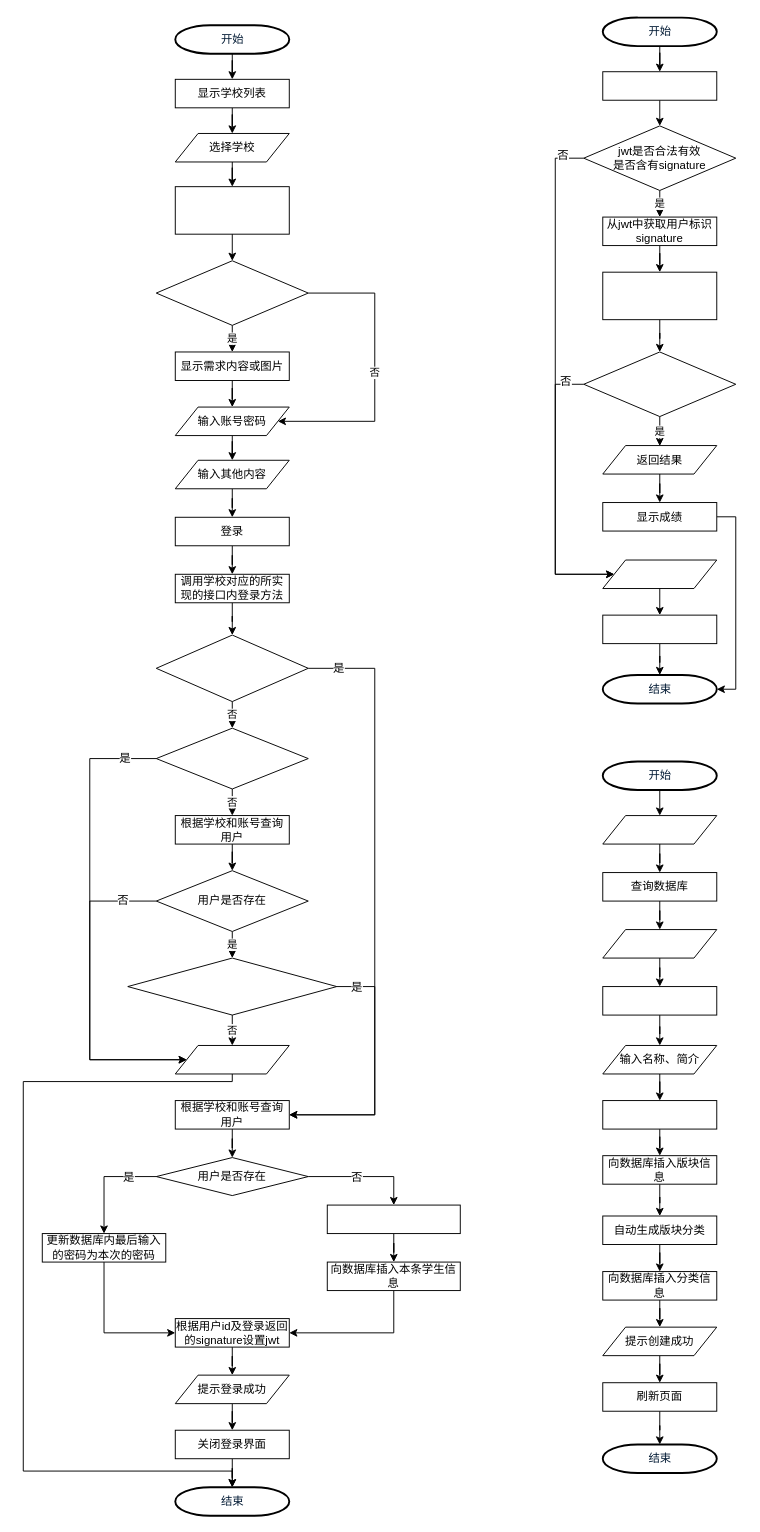
This 760x1532 diagram has some shape labels left out. The shapes that lost their labels are listed below. From the top down, each one's centre as x and y in pixels, then its label:
(659,85): 获取jwt并解析
(231,210): 调用学校对应的所实现的接口内额外需输入内容方法
(231,292): 是否有其他需输入内容
(659,295): 调用学校对应的所实现的接口内查成绩方法
(659,384): 是否成功
(659,574): 返回空结果
(659,629): 显示本地成绩
(231,668): 是否登录成功
(231,758): 教务系统是否可用
(659,829): 输入搜索内容
(659,943): 显示版块列表
(232,986): 数据库内上次输入密码与 本次输入密码是否相同
(659,1000): 点击创建按钮
(231,1059): 提示登录失败
(659,1114): 创建
(393,1219): 调用学校对应的所实现的接口内获取学生信息方法
